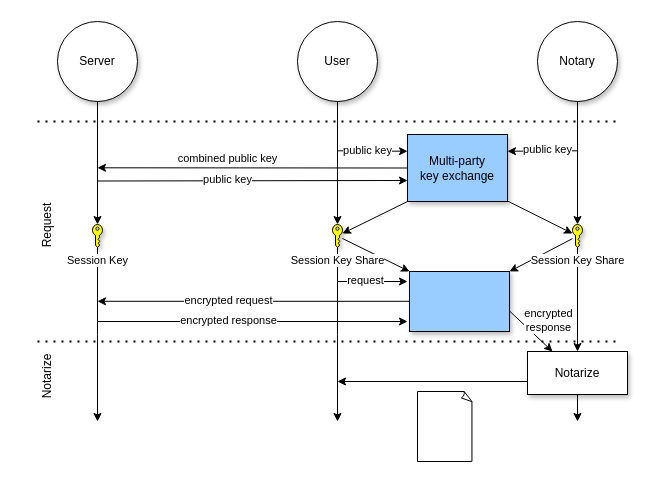
The diagram is 651 pixels wide and 479 high, and some of its shapes have lost their labels. The shapes that lost their labels are listed below. From the top down, each one's centre as x and y in pixels, then its label:
At point 460,302: "Multi-party request".
At point 444,426: "notarized transcript".
